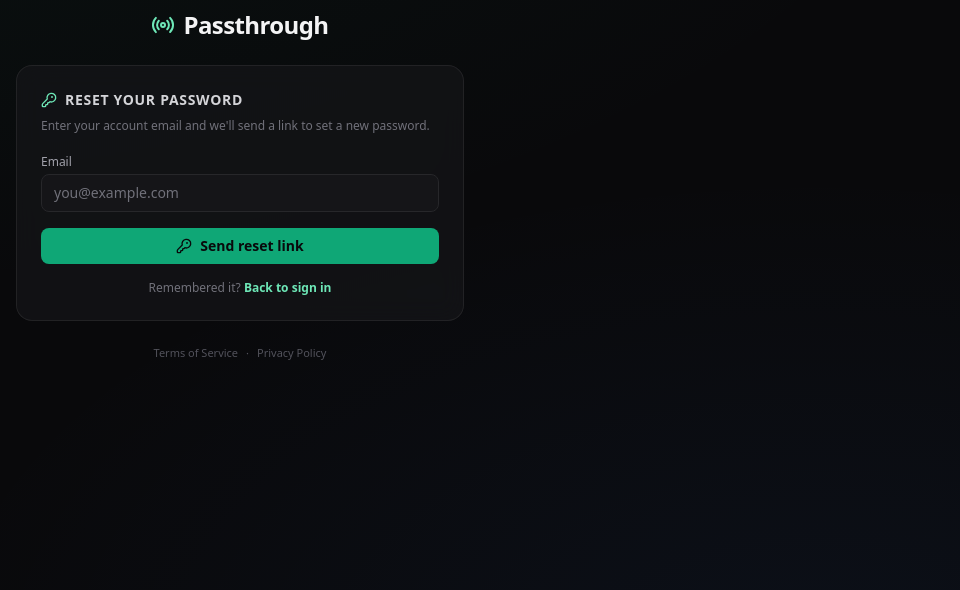
Test case: ResetPage › requests a reset link and surfaces the dev fallback link when mail is unconfigured
Type "a@b.c" into the field labelled "Email".
click(240, 193); type("a@b.c")  # box [41,174,439,212]
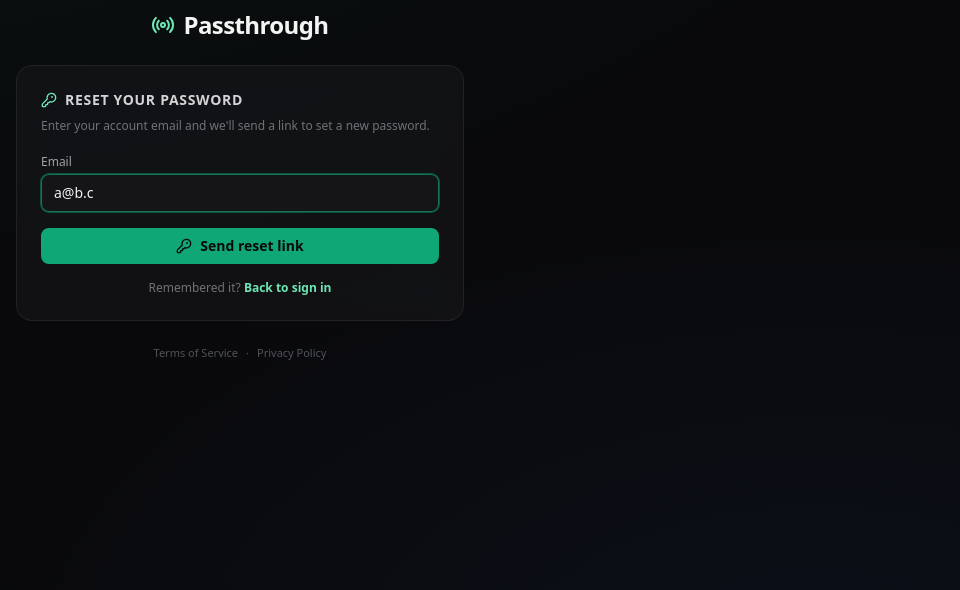
Click the button "Send reset link".
click(240, 246)  # box [41,228,439,264]
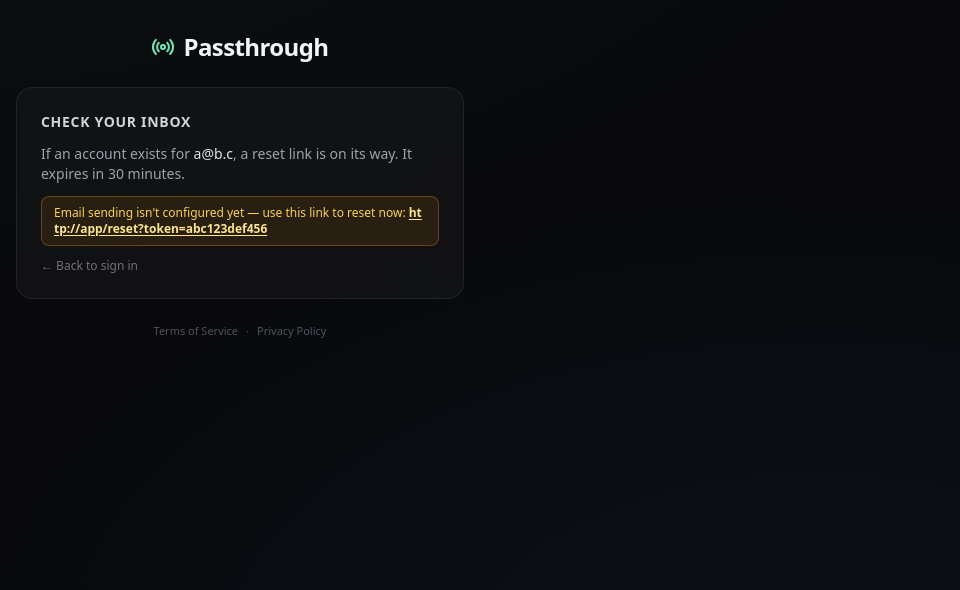
Expected: the element with test id "reset-requested" is shown, [41,112,439,274]
Expected: the link with test id "dev-reset-link" is shown, [54,204,422,237]
